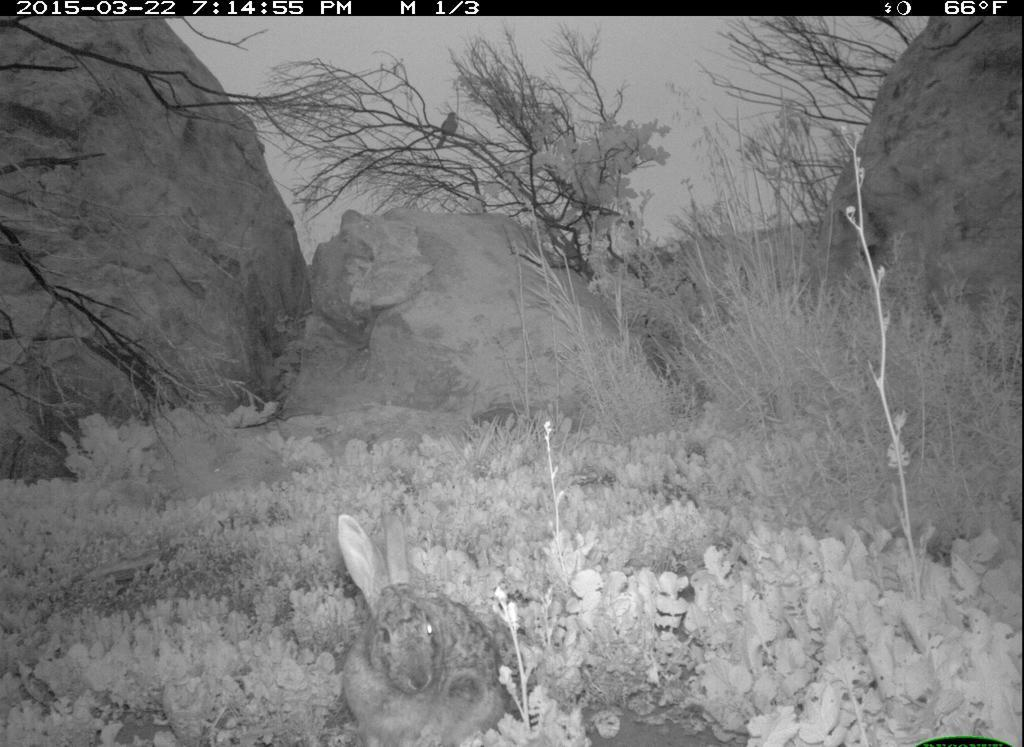rabbit: (332, 511, 513, 747)
